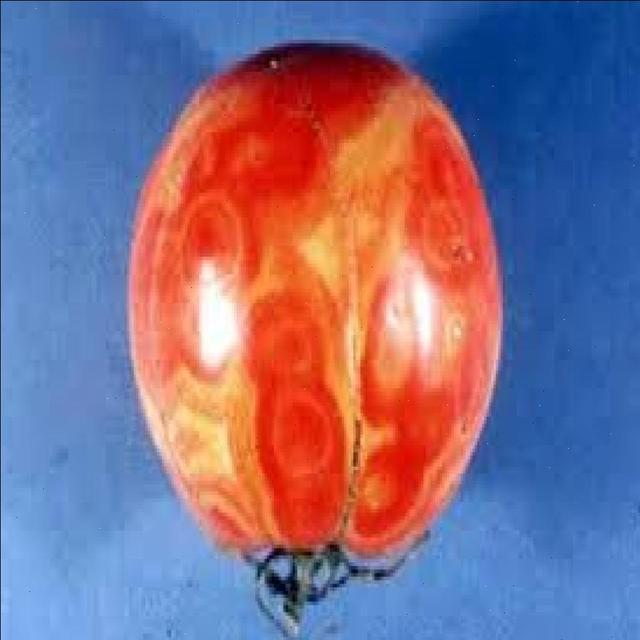Spotted wilt Virus Fruit: (65, 15, 153, 160)
